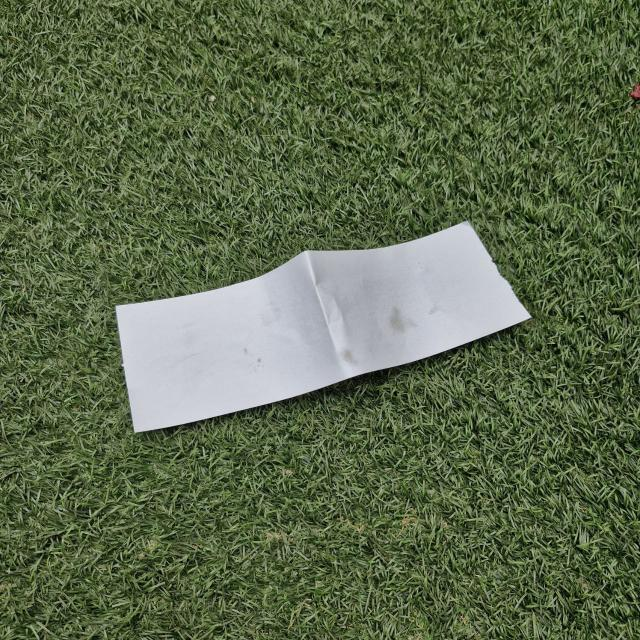paper: (115, 213, 547, 439)
